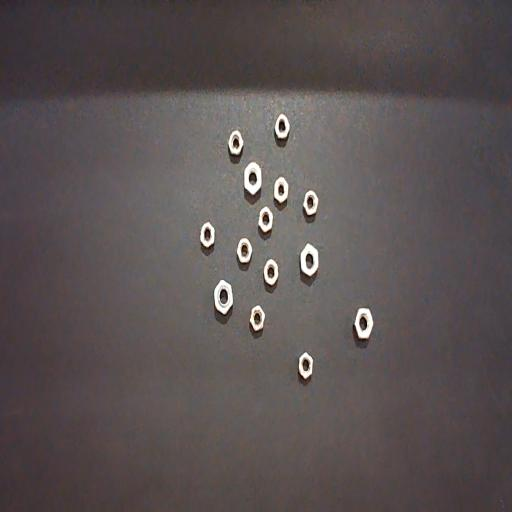nut: (214, 279, 234, 323), (243, 161, 262, 203), (354, 308, 373, 348), (300, 243, 318, 285), (236, 237, 252, 271), (263, 258, 279, 292), (297, 352, 313, 386), (228, 130, 244, 163), (274, 176, 289, 211), (258, 206, 273, 241), (274, 114, 290, 146), (200, 221, 215, 255), (303, 190, 318, 223), (250, 305, 265, 338)
